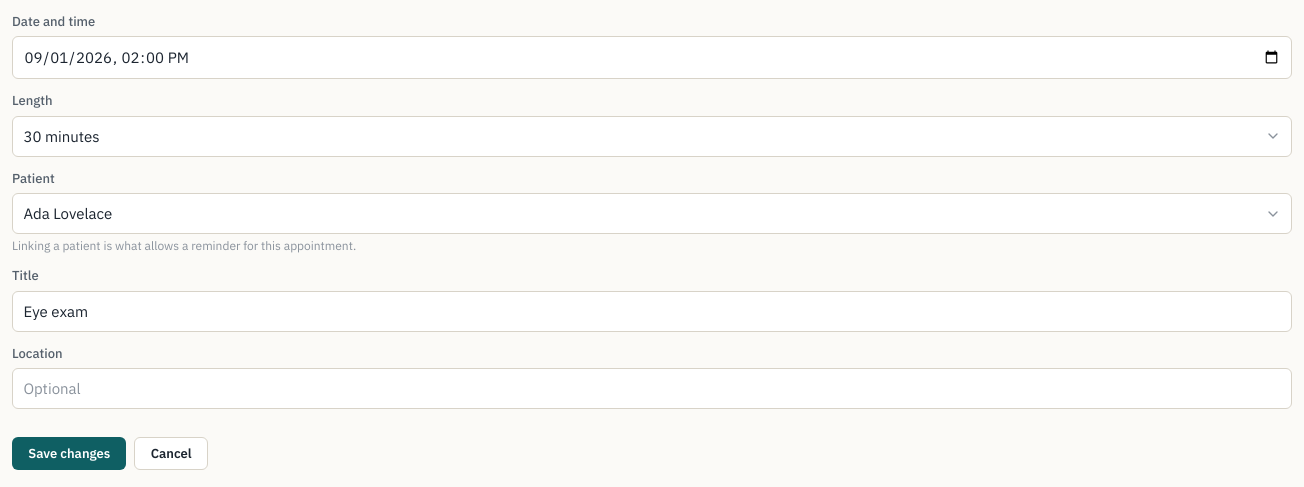
Test: AppointmentForm › edit mode › surfaces an Outlook conflict
Click the button "Save changes" at point(69, 453), box [12,437,126,470]
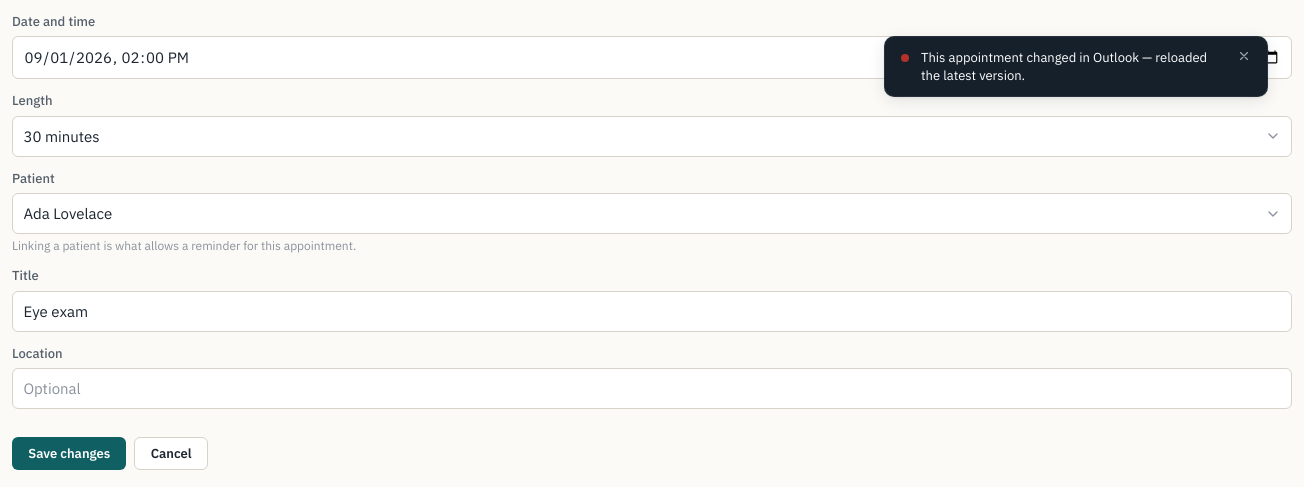
Expected: the text "changed in Outlook" is shown, [921,49,1207,84]
